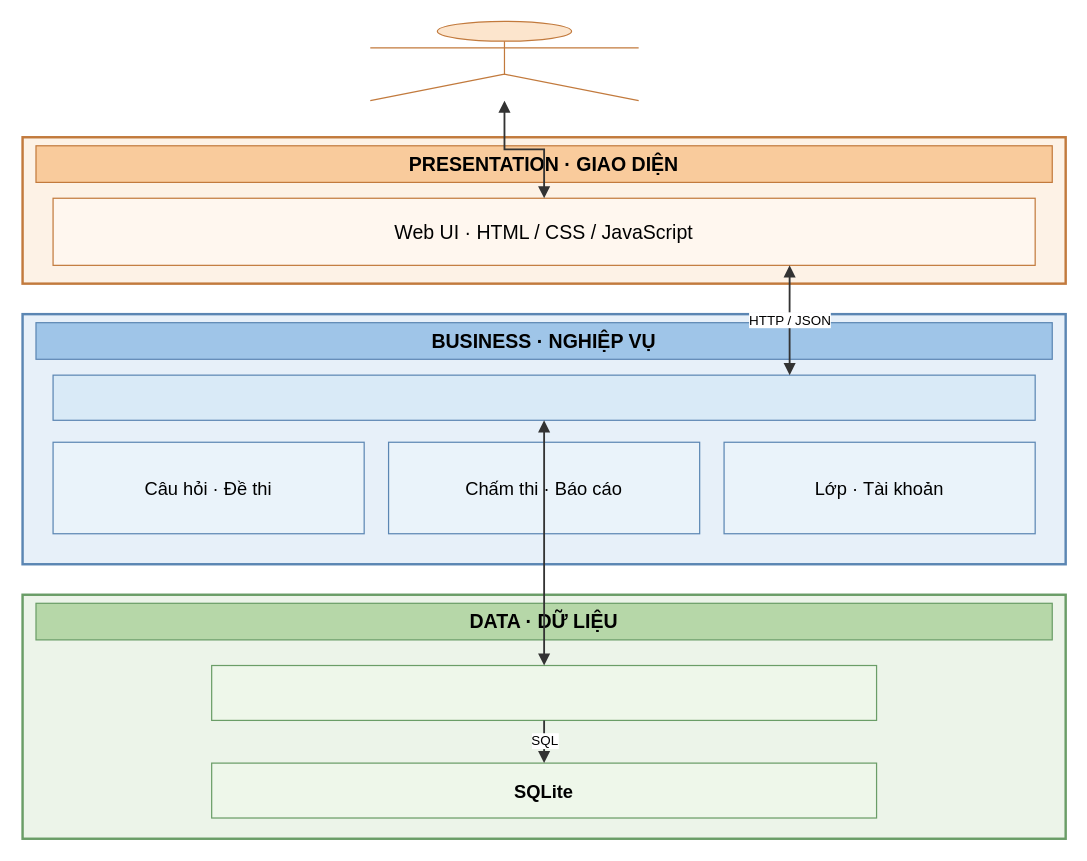
This 1087x861 diagram has some shape labels left out. The centre of each missing label's shape, as x and y in pixels:
"database/db.js" goes at pixel 543 692.
"Express REST API" goes at pixel 543 397.
"Giảng viên" goes at pixel 504 60.
